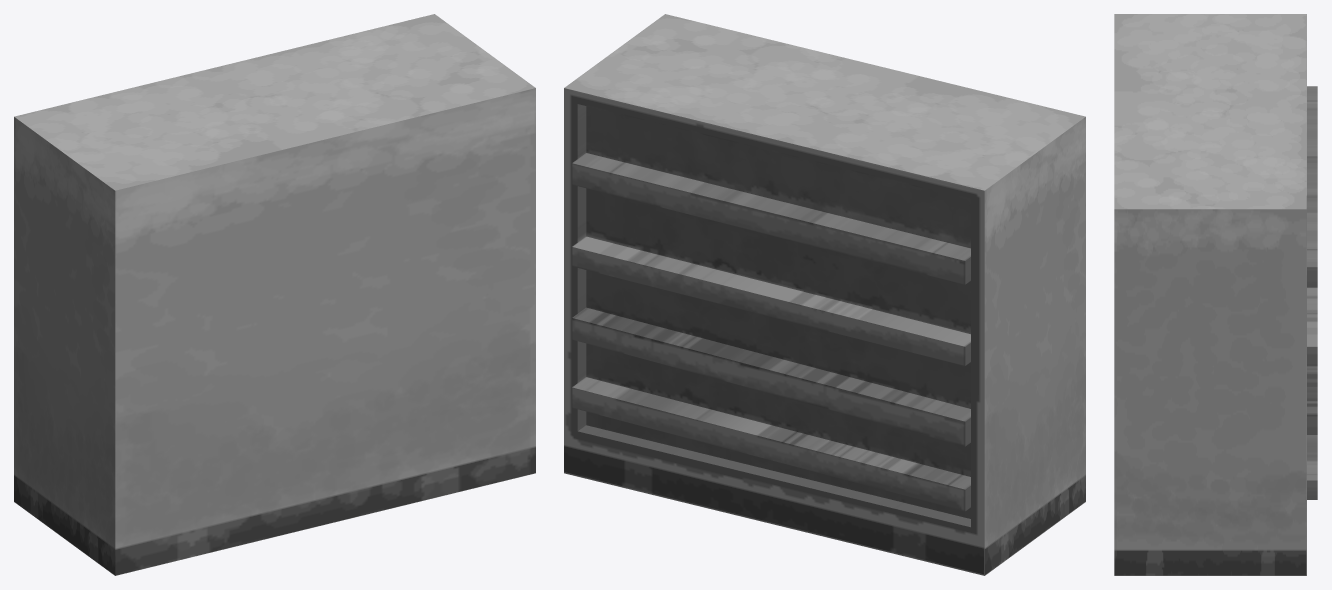
File: shelf_01.fbx
3 renders of one model, left to right at view 1: azimuth 30°, elevation 25°; view 2: azimuth 150°, elevation 25°; view 3: azimuth 270°, elevation 25°, orthographic. The views are drawn at different scales.
Parts seen in each view (by area): view 1: shelf_01; view 2: shelf_01; view 3: shelf_01.
Boxes of the visible parts, x1,y1,x2,y2 form: shelf_01: (14, 14, 535, 575); shelf_01: (564, 14, 1085, 575); shelf_01: (1114, 14, 1317, 575).
Bounding box in the file's own units: 480 × 420 × 211.
